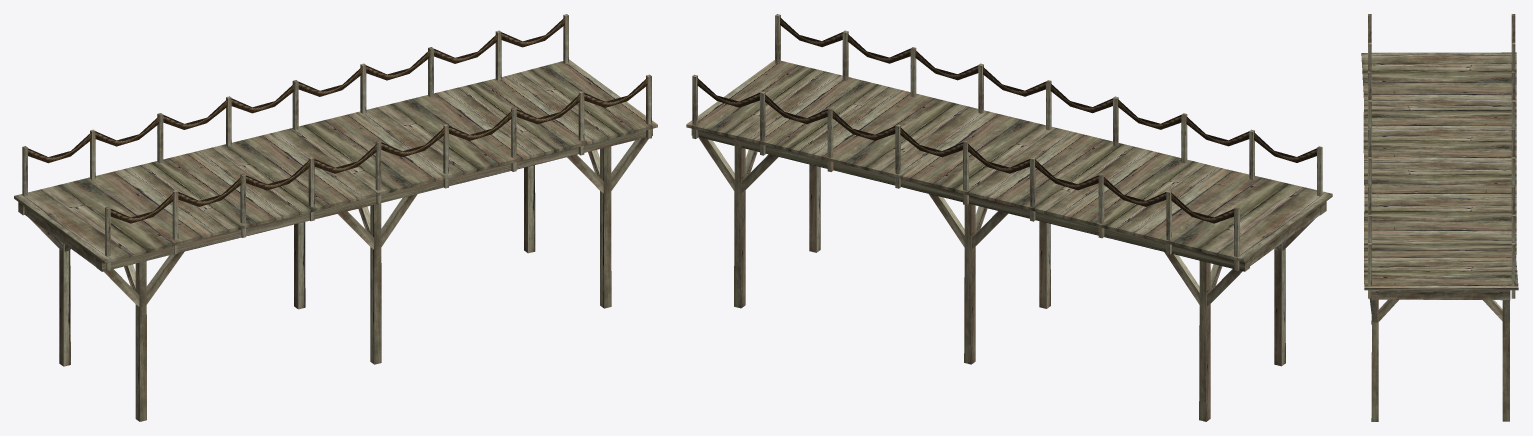
File: pier_scaffold_2long.fbx
3 renders of one model, left to right at view 1: azimuth 30°, elevation 25°; view 2: azimuth 150°, elevation 25°; view 3: azimuth 270°, elevation 25°, orthographic. The views are drawn at different scales.
Visible parts, largest first — view 1: pier_scaffold_2long:Platform1, pier_scaffold_2long:corner_post, pier_scaffold_2long:Mesh2, pier_scaffold_2long:Mesh67, pier_scaffold_2long:Mesh69, pier_scaffold_2long:Mesh3, pier_scaffold_2long:polySurface1, polySurface1, polySurface28, polySurface22, polySurface26; view 2: pier_scaffold_2long:Platform1, pier_scaffold_2long:corner_post, pier_scaffold_2long:Mesh5, pier_scaffold_2long:Mesh69, pier_scaffold_2long:Mesh67, polySurface24, pier_scaffold_2long:Mesh3, polySurface30, polySurface29, polySurface23; view 3: pier_scaffold_2long:Platform1, pier_scaffold_2long:corner_post, pier_scaffold_2long:Mesh7, pier_scaffold_2long:railing2, polySurface1, pier_scaffold_2long:railing1, polySurface24.
Part boxes in pixels (x1=…): pier_scaffold_2long:Platform1: x1=14, y1=59, x2=657, y2=263; pier_scaffold_2long:corner_post: x1=59, y1=146, x2=611, y2=421; pier_scaffold_2long:Mesh2: x1=96, y1=128, x2=652, y2=271; pier_scaffold_2long:Mesh67: x1=370, y1=204, x2=381, y2=364; pier_scaffold_2long:Mesh69: x1=294, y1=222, x2=305, y2=309; pier_scaffold_2long:Mesh3: x1=24, y1=207, x2=96, y2=266; pier_scaffold_2long:polySurface1: x1=338, y1=206, x2=373, y2=249; polySurface1: x1=567, y1=150, x2=603, y2=193; polySurface28: x1=104, y1=264, x2=139, y2=306; polySurface22: x1=611, y1=137, x2=648, y2=190; polySurface26: x1=146, y1=251, x2=184, y2=304; pier_scaffold_2long:Platform1: x1=686, y1=60, x2=1332, y2=262; pier_scaffold_2long:corner_post: x1=734, y1=146, x2=1285, y2=421; pier_scaffold_2long:Mesh5: x1=699, y1=130, x2=1249, y2=271; pier_scaffold_2long:Mesh69: x1=964, y1=204, x2=975, y2=364; pier_scaffold_2long:Mesh67: x1=1039, y1=221, x2=1050, y2=308; polySurface24: x1=741, y1=149, x2=778, y2=192; pier_scaffold_2long:Mesh3: x1=1250, y1=206, x2=1320, y2=265; polySurface30: x1=972, y1=206, x2=1008, y2=248; polySurface29: x1=1207, y1=264, x2=1242, y2=306; polySurface23: x1=698, y1=137, x2=734, y2=190; pier_scaffold_2long:Platform1: x1=1361, y1=52, x2=1518, y2=290; pier_scaffold_2long:corner_post: x1=1371, y1=300, x2=1509, y2=421; pier_scaffold_2long:Mesh7: x1=1379, y1=290, x2=1510, y2=300; pier_scaffold_2long:railing2: x1=1511, y1=243, x2=1515, y2=298; polySurface1: x1=1378, y1=299, x2=1398, y2=321; pier_scaffold_2long:railing1: x1=1368, y1=243, x2=1371, y2=298; polySurface24: x1=1483, y1=300, x2=1502, y2=321.
Bounding box in the file's own units: 5436 × 2083 × 1532.
2 materials, 2 textured.
